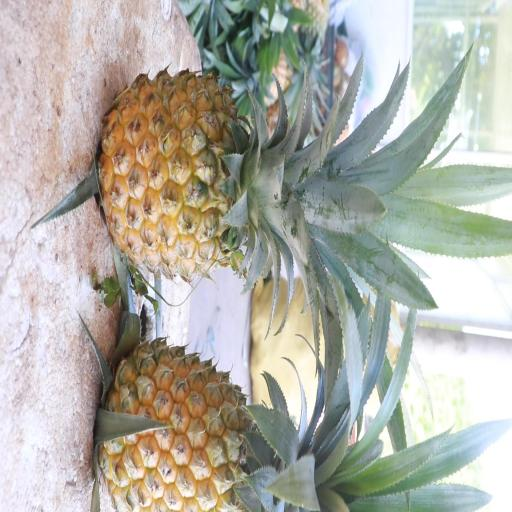Pineapple - v8 v1: (96, 60, 330, 287), (94, 332, 337, 512)
